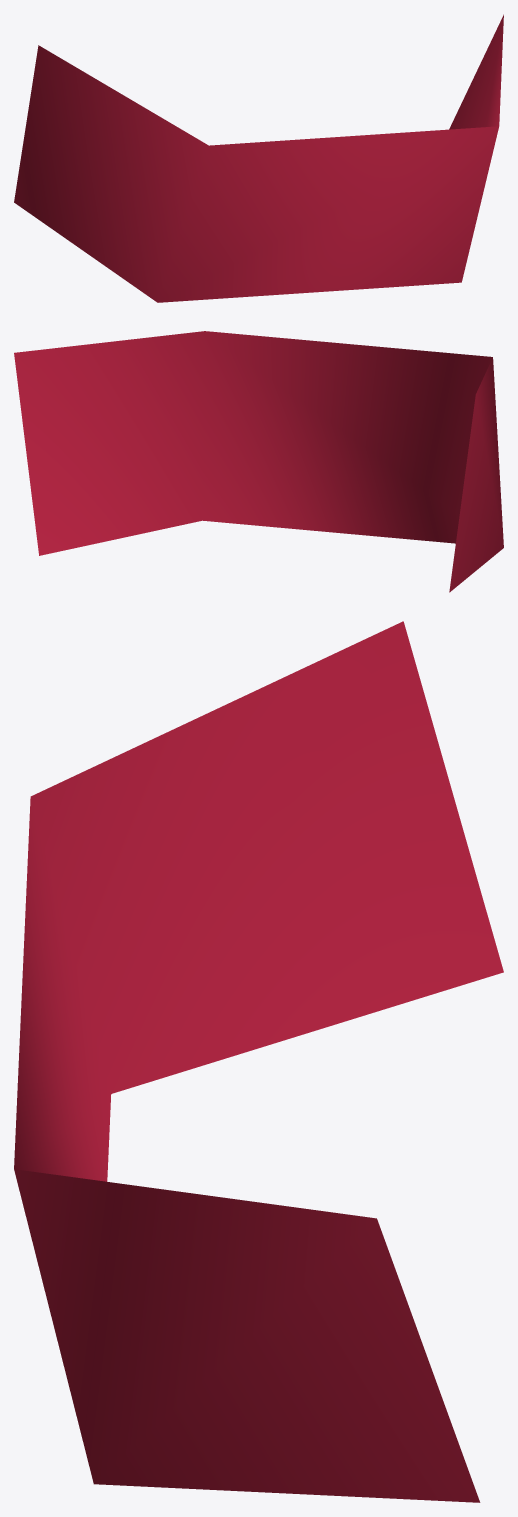
The picture shows the model from 3 angles, top to bottom: view 1: azimuth 30°, elevation 25°; view 2: azimuth 150°, elevation 25°; view 3: azimuth 270°, elevation 25°; orthographic projection. The views are drawn at different scales.
Visible parts, largest first — view 1: ef_449; view 2: ef_449; view 3: ef_449.
Part boxes in pixels (box(x1,y1,x2,y2)): ef_449: box(14, 14, 503, 302); ef_449: box(14, 331, 503, 592); ef_449: box(14, 621, 503, 1502).
Bounding box in the file's own units: 0.9994 × 0.5513 × 0.4642.
Materials: 1 (1 with a texture image).
